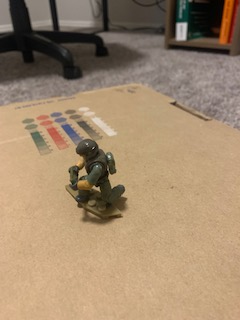soldier: (63, 136, 132, 217)
